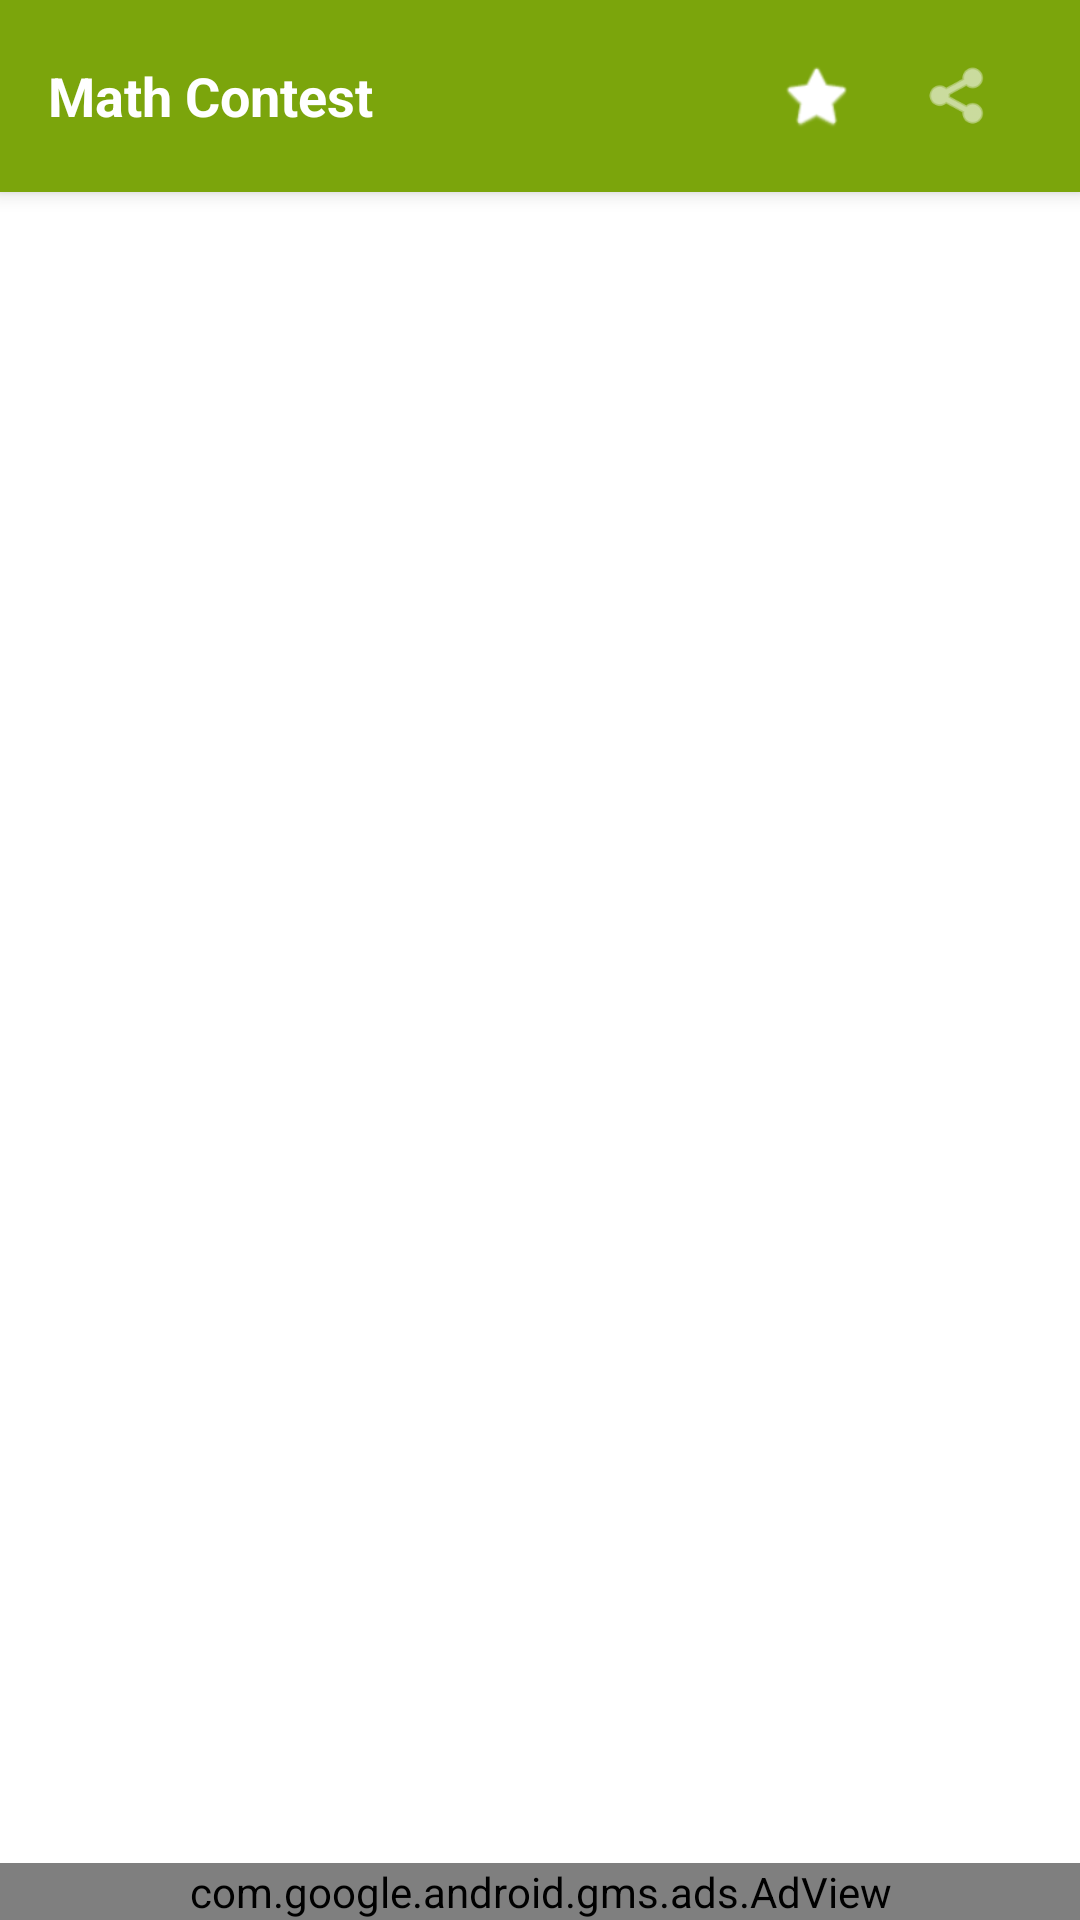

Where to tap for icons on this 1080px×1920px app screen, as (x,y):
share: (956,95)
star off: (816,96)
